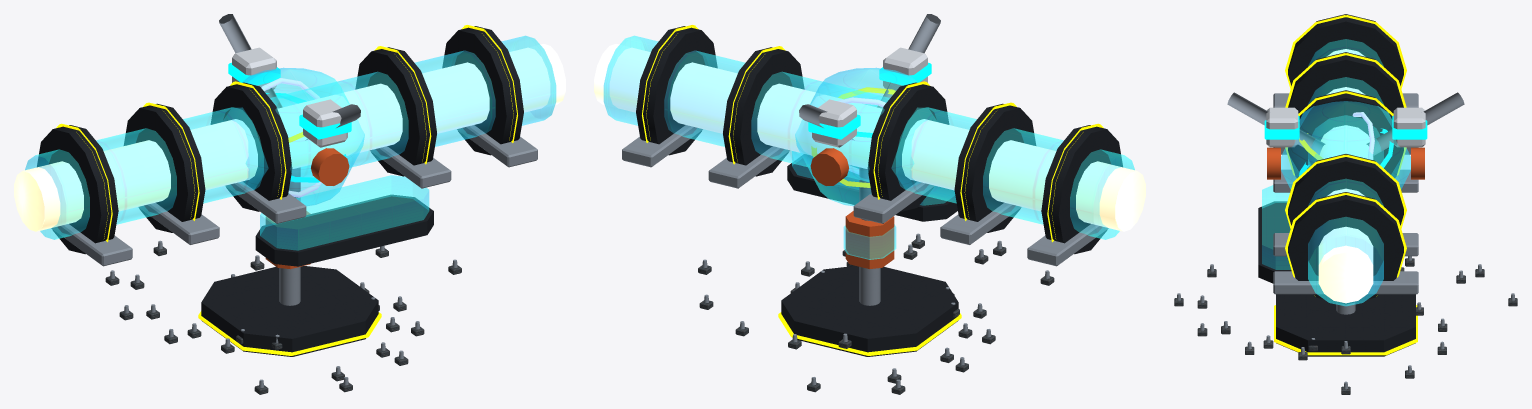
File: interior_setpiece_03_r1_05.glb
3 renders of one model, left to right at view 1: azimuth 30°, elevation 25°; view 2: azimuth 150°, elevation 25°; view 3: azimuth 270°, elevation 25°, orthographic. The views are drawn at different scales.
Parts seen in each view (by area): view 1: Setpiece03_C05_gunmetal, Setpiece03_C05_glass_cyan, Setpiece03_C05_sky_golden_core, Setpiece03_C05_steel_machined, Setpiece03_C05_led_amber, Setpiece03_C05_aero_white, Setpiece03_C05_cliff_basalt, Setpiece03_C05_led_cyan, Setpiece03_C05_accent_orange, Setpiece03_C05_led_uv; view 2: Setpiece03_C05_gunmetal, Setpiece03_C05_glass_cyan, Setpiece03_C05_sky_golden_core, Setpiece03_C05_steel_machined, Setpiece03_C05_accent_orange, Setpiece03_C05_led_amber, Setpiece03_C05_aero_white, Setpiece03_C05_cliff_basalt, Setpiece03_C05_led_cyan; view 3: Setpiece03_C05_gunmetal, Setpiece03_C05_glass_cyan, Setpiece03_C05_steel_machined, Setpiece03_C05_sky_golden_core, Setpiece03_C05_led_amber, Setpiece03_C05_aero_white, Setpiece03_C05_cliff_basalt, Setpiece03_C05_led_cyan, Setpiece03_C05_accent_orange.
Boxes of the visible parts, x1,y1,x2,y2 form: Setpiece03_C05_gunmetal: (37,26,523,356); Setpiece03_C05_glass_cyan: (25,35,556,250); Setpiece03_C05_sky_golden_core: (14,44,565,231); Setpiece03_C05_steel_machined: (51,14,537,387); Setpiece03_C05_led_amber: (56,25,517,355); Setpiece03_C05_aero_white: (232,47,347,147); Setpiece03_C05_cliff_basalt: (105,246,461,394); Setpiece03_C05_led_cyan: (228,62,351,182); Setpiece03_C05_accent_orange: (265,148,349,269); Setpiece03_C05_led_uv: (261,78,321,197); Setpiece03_C05_gunmetal: (636,26,1122,356); Setpiece03_C05_glass_cyan: (603,35,1134,259); Setpiece03_C05_sky_golden_core: (594,44,1145,231); Setpiece03_C05_steel_machined: (622,14,1108,387); Setpiece03_C05_accent_orange: (810,148,894,269); Setpiece03_C05_led_amber: (642,25,1103,355); Setpiece03_C05_aero_white: (812,47,927,147); Setpiece03_C05_cliff_basalt: (698,239,1054,394); Setpiece03_C05_led_cyan: (808,62,931,139); Setpiece03_C05_gunmetal: (1258,14,1415,356); Setpiece03_C05_glass_cyan: (1262,39,1410,306); Setpiece03_C05_steel_machined: (1176,92,1515,389); Setpiece03_C05_sky_golden_core: (1318,49,1373,303); Setpiece03_C05_led_amber: (1274,15,1417,355); Setpiece03_C05_aero_white: (1266,107,1425,147); Setpiece03_C05_cliff_basalt: (1174,258,1517,394); Setpiece03_C05_led_cyan: (1264,115,1427,176); Setpiece03_C05_accent_orange: (1267,147,1424,179).
Bounding box in the file's own units: 54 × 25.79 × 34.29.
10 materials, 10 textured.
